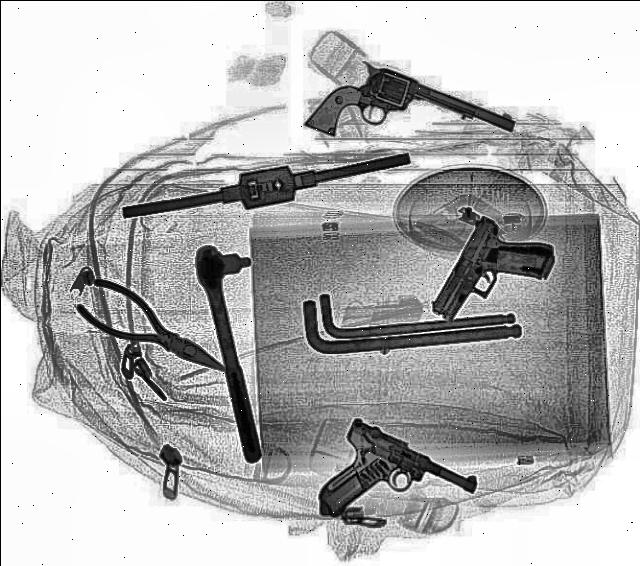Gun: (304, 54, 520, 190), (295, 415, 487, 563), (424, 216, 566, 344)
Pliers: (68, 276, 244, 390)
